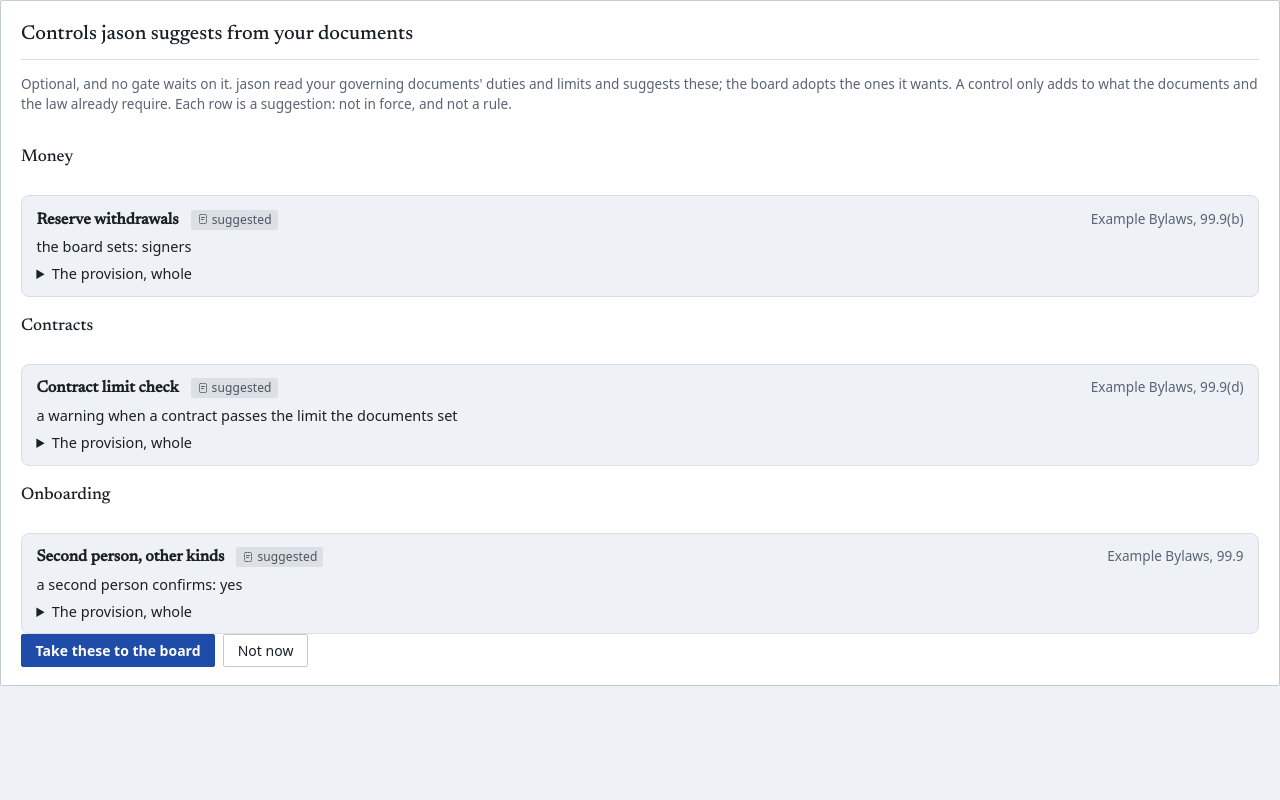
Test: the onboarding controls step › works when the browser's storage cannot be used
This screenshot has width=1280, height=800.
Expected: the heading "Money" is shown, [21,149,73,165]
Click the button "Not now": (266,651) [223,634,308,668]
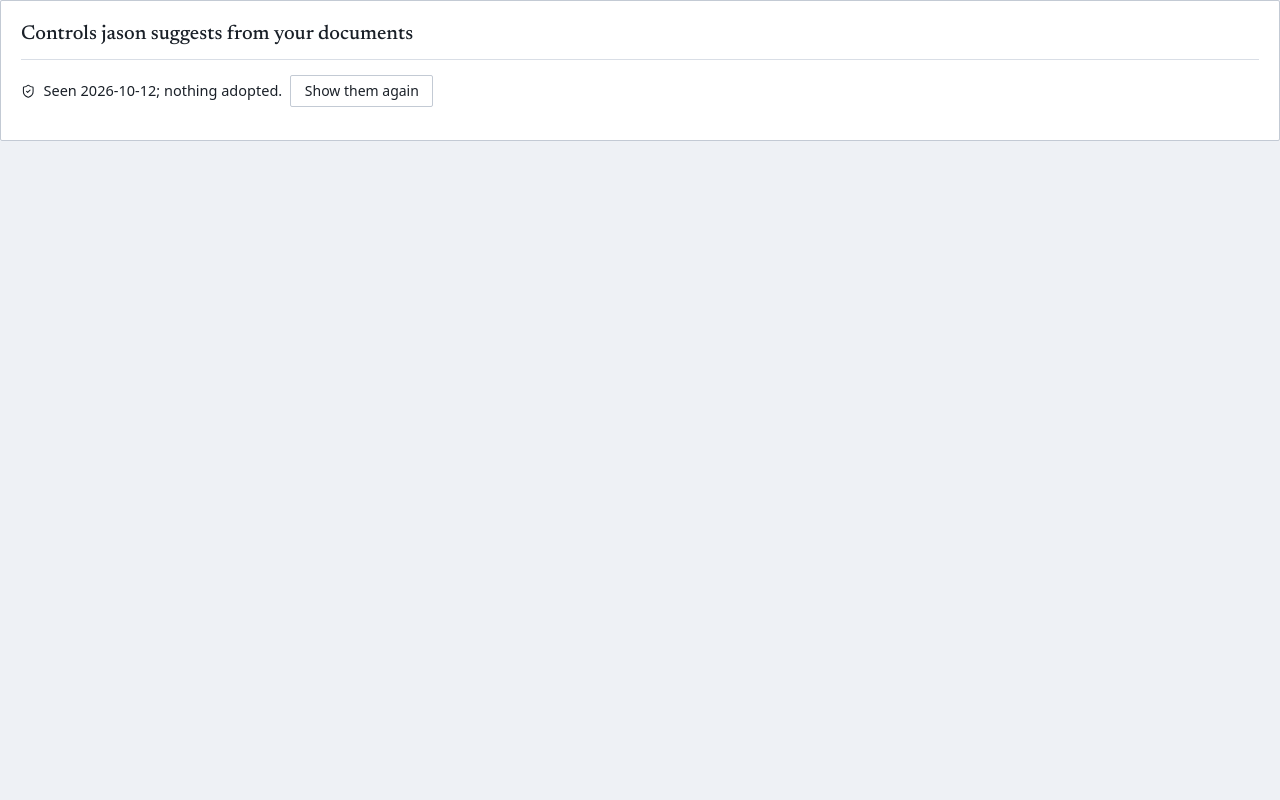
Expected: the element with test id "controls-seen" is shown, [21,74,434,108]
